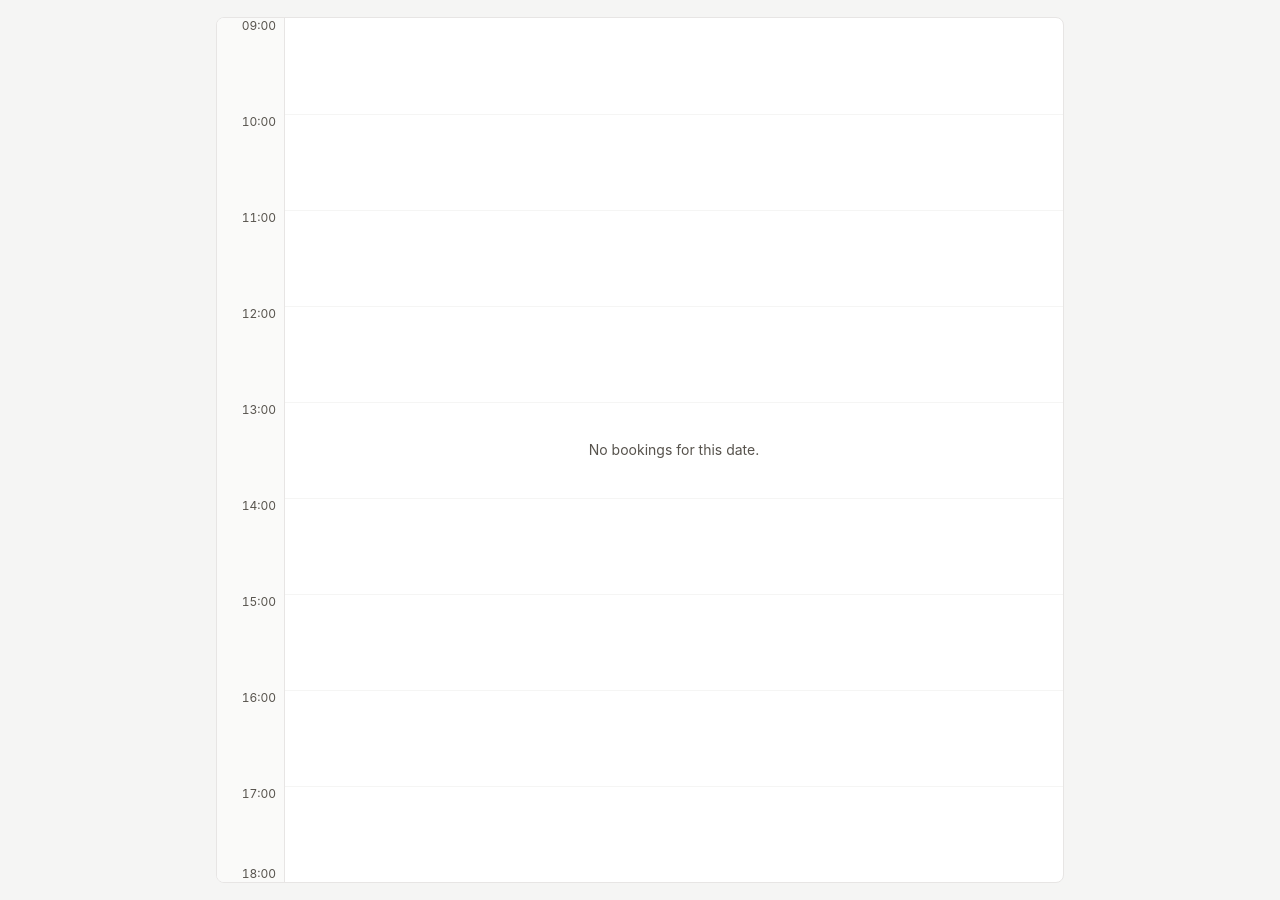
it: booking form › shows a created booking after moving to its date
(page scrolled)
Expected: the text "No bookings for this date." is shown, left=589, top=441, right=759, bottom=458
Press Enter
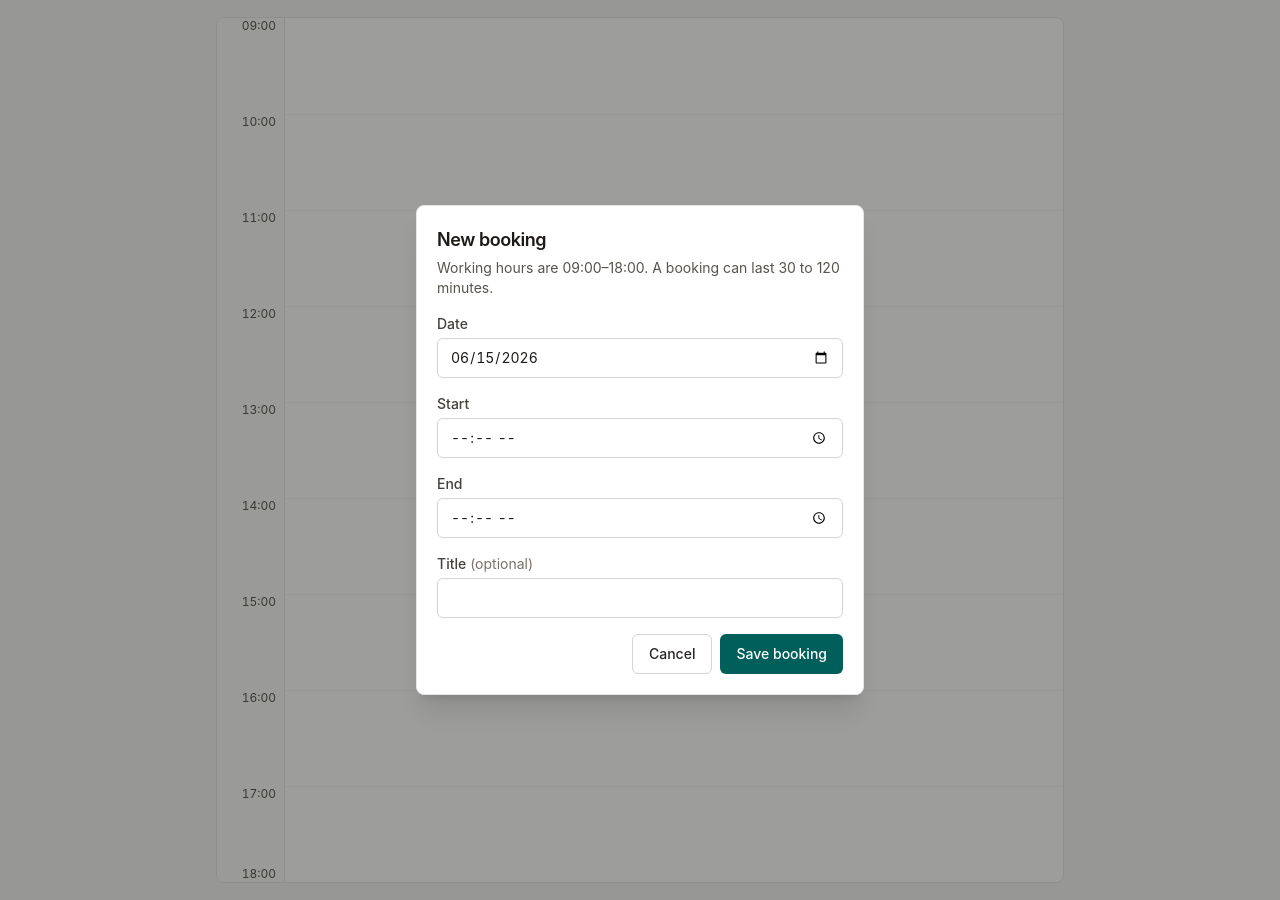
In the date field labelled "Date": (640, 358) left=437, top=338, right=843, bottom=378, type "2026-06-16"
In the time field labelled "Start": (640, 438) left=437, top=418, right=843, bottom=458, type "14:00"
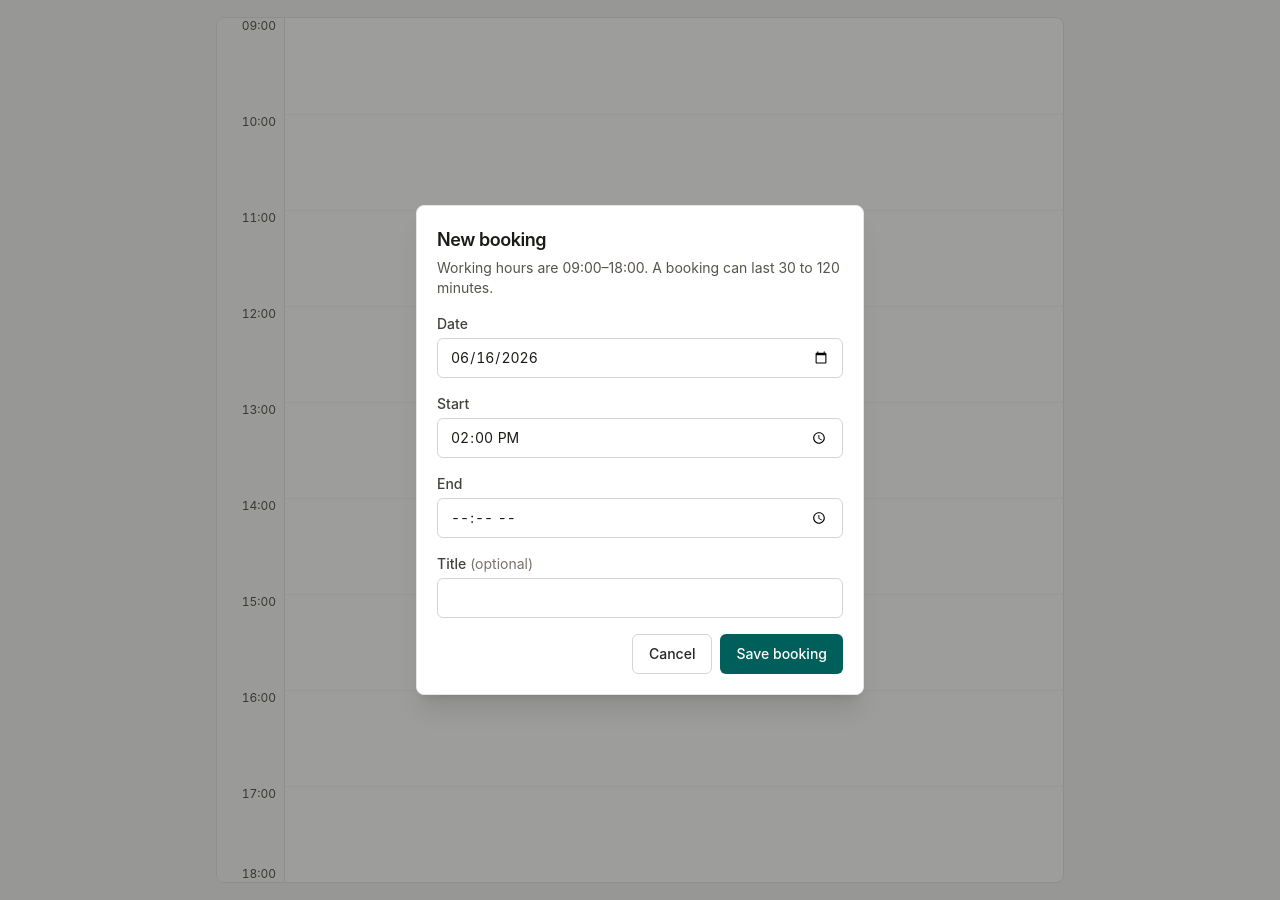
In the time field labelled "End": (640, 518) left=437, top=498, right=843, bottom=538, type "15:00"
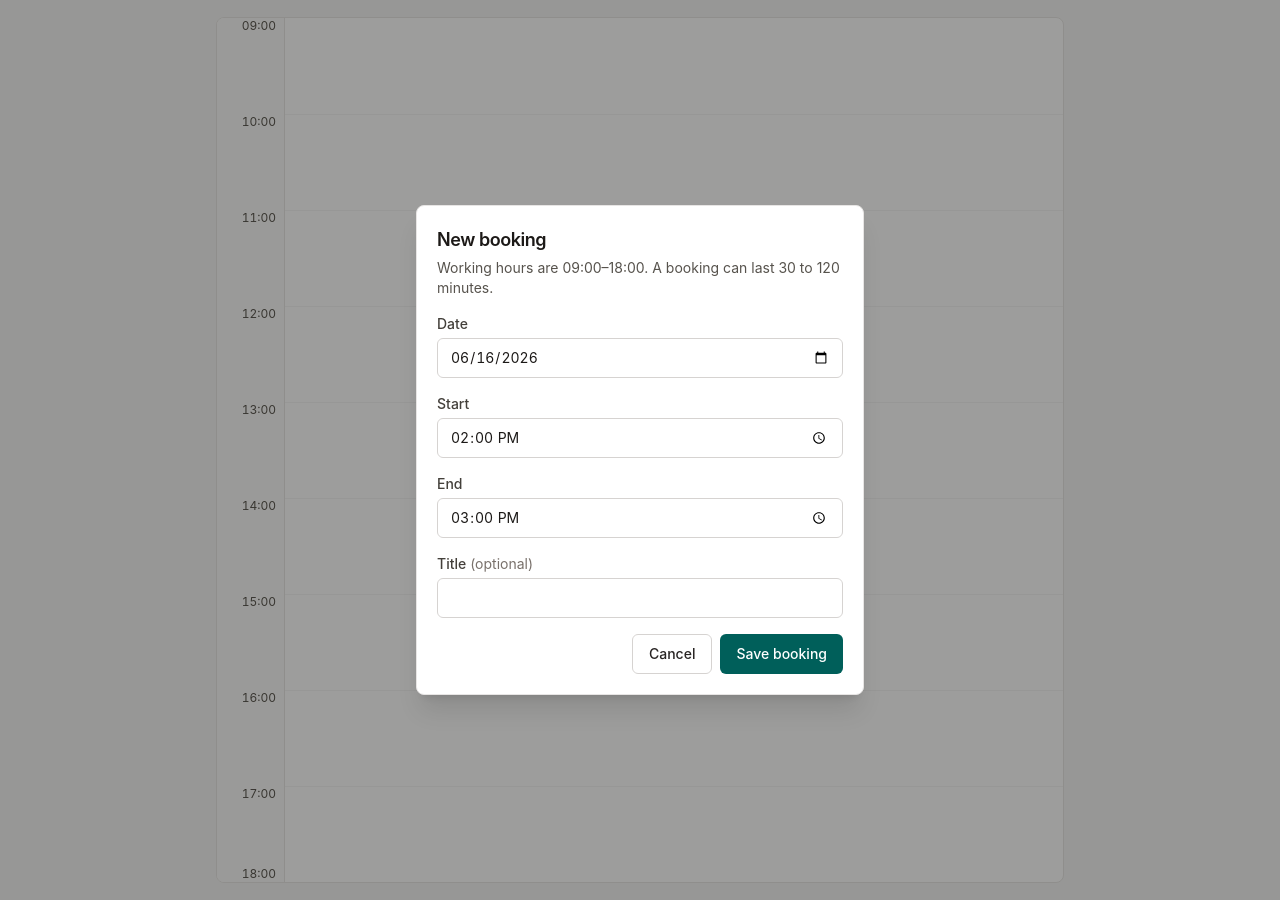
In the field labelled "Title (optional)": (640, 598) left=437, top=578, right=843, bottom=618, type "Tomorrow plan"
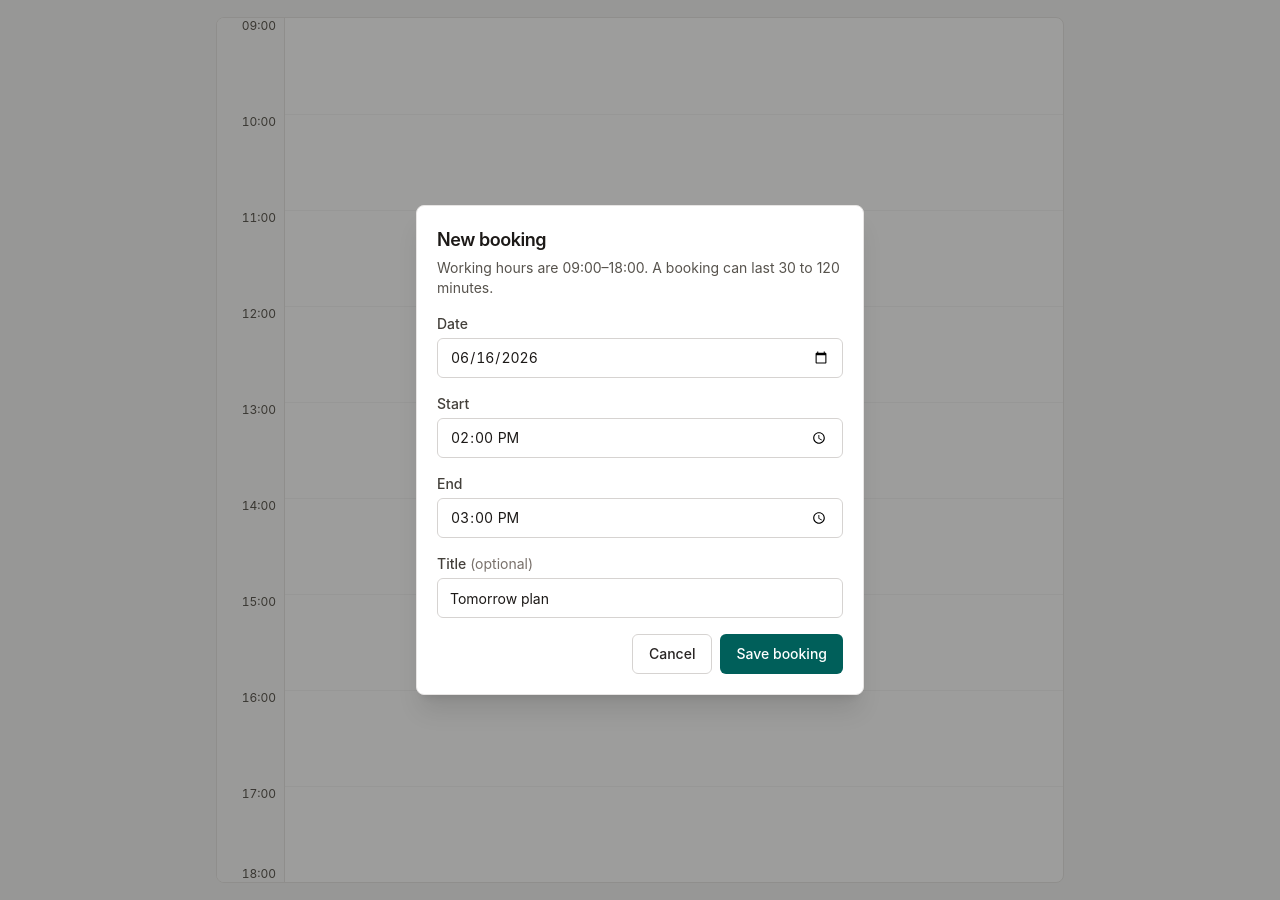
Click the button "Save booking": (782, 654) left=720, top=634, right=843, bottom=674
(page scrolled)
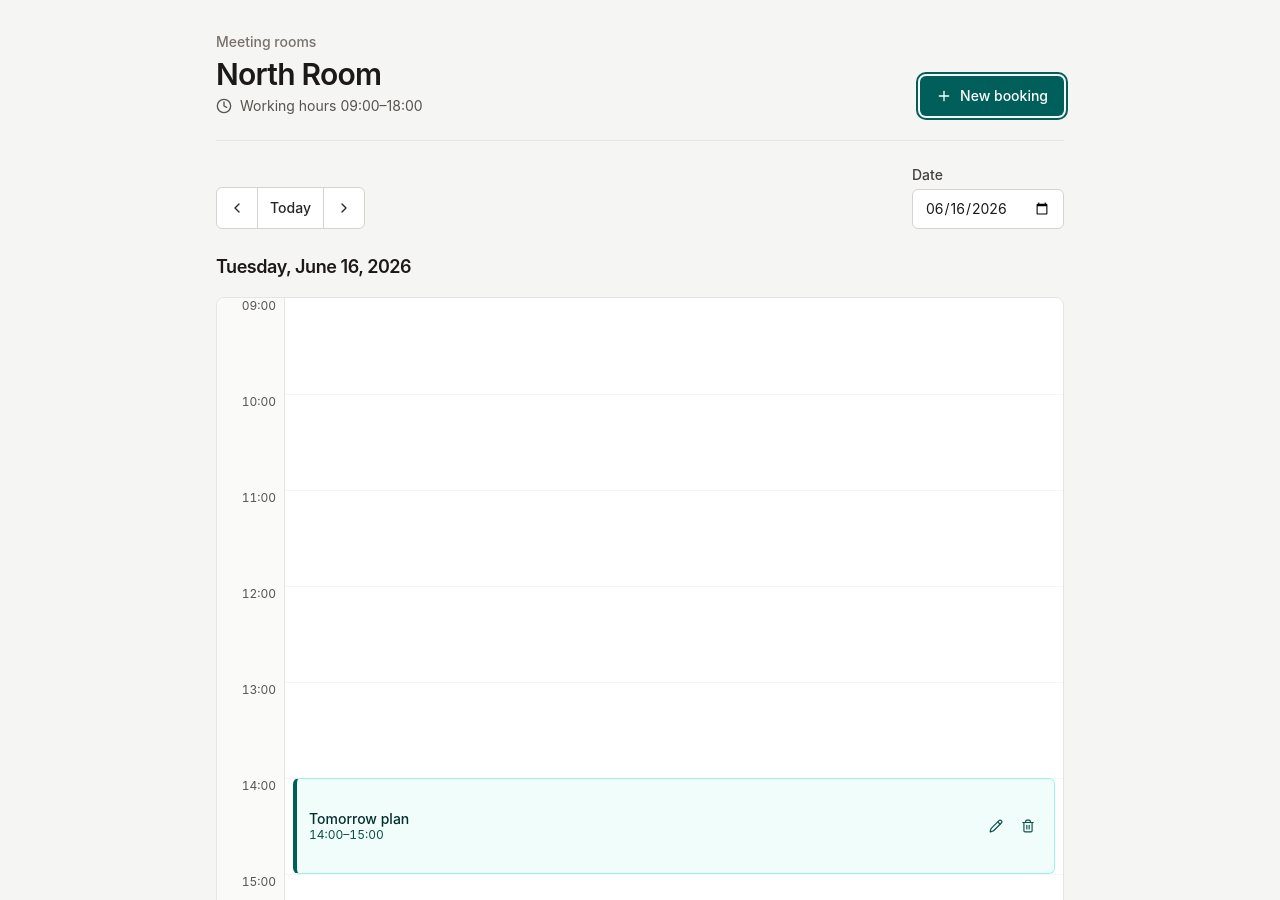
Expected: the dialog is gone
Expected: the date field labelled "Date" holds "2026-06-16", left=912, top=189, right=1064, bottom=229
Expected: the text "Tomorrow plan" is shown, left=309, top=810, right=409, bottom=827
Click the button named "Previous day": (237, 208) left=217, top=188, right=257, bottom=228
(page scrolled)
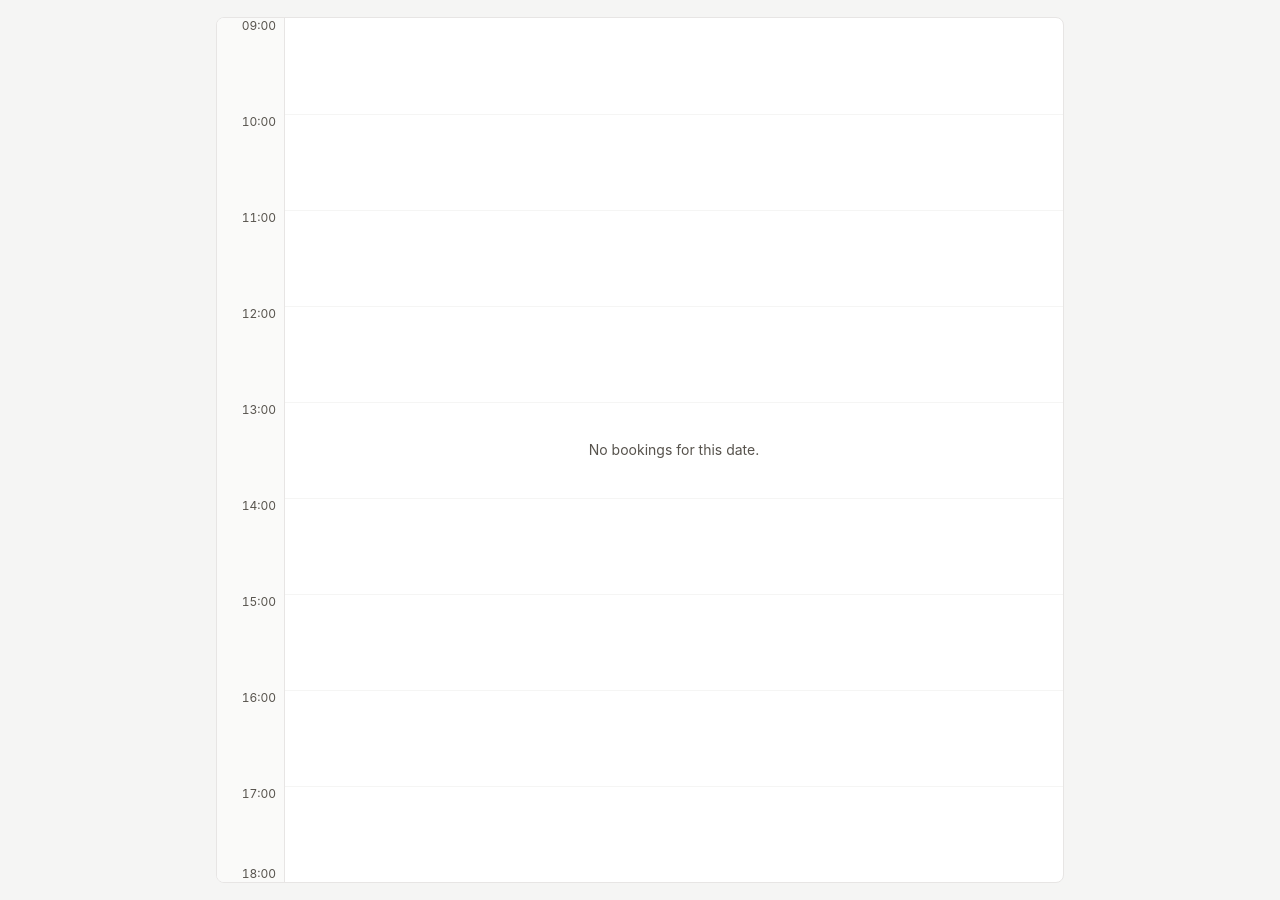
Expected: the text "No bookings for this date." is shown, left=589, top=441, right=759, bottom=458
Expected: the text "Tomorrow plan" is gone
